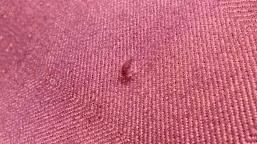knot: (117, 55, 142, 87)
